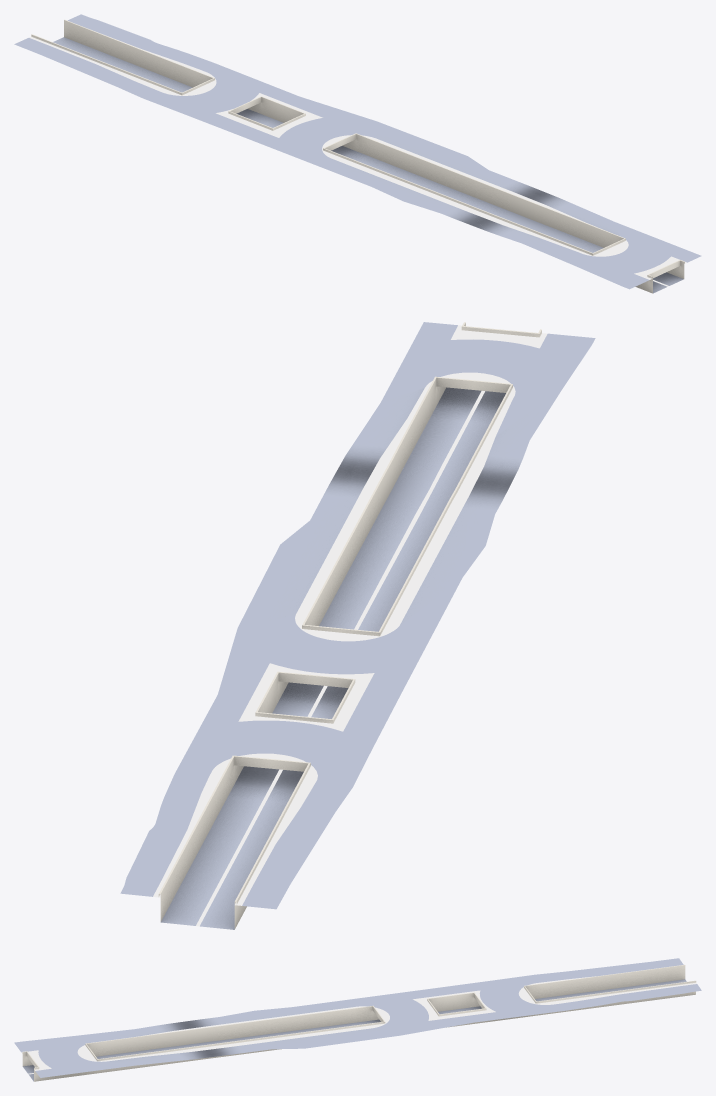
Rendered from Saina-Zhubanov2-edit.glb.
The picture shows the model from 3 angles, top to bottom: view 1: azimuth 30°, elevation 25°; view 2: azimuth 150°, elevation 25°; view 3: azimuth 270°, elevation 25°; orthographic projection. The views are drawn at different scales.
Visible parts, largest first — view 1: group_3, group_11.001, group_2.003; view 2: group_3, group_2.003, group_11.001; view 3: group_3, group_11.001, group_2.003.
Part boxes in pixels (x1,y1,x2,y2): group_3: (14,14,701,293); group_11.001: (31,19,684,293); group_2.003: (29,35,686,286); group_3: (120,322,595,929); group_2.003: (153,325,547,926); group_11.001: (158,322,541,929); group_3: (14,958,701,1081); group_11.001: (22,964,696,1081); group_2.003: (21,976,696,1074).
Bounding box in the file's own units: 145 × 8 × 352.
3 materials, 2 textured.
